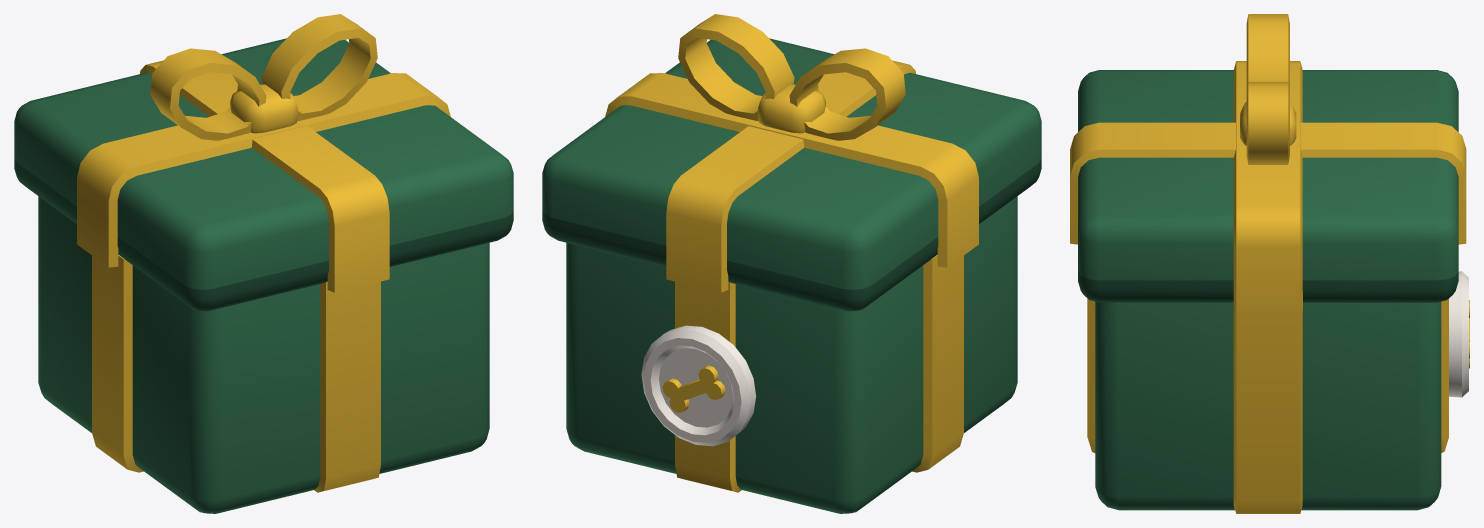
The model's file is boite_accessoires_animaux.fbx.
3 views of the same model, side by side, from view 1: azimuth 30°, elevation 25°; view 2: azimuth 150°, elevation 25°; view 3: azimuth 270°, elevation 25° (orthographic).
Visible parts, largest first — view 1: Corps, Couvercle, RubanCouvercle, Ruban, Noeud; view 2: Corps, Couvercle, RubanCouvercle, Noeud, Ruban, Medaillon, Embleme; view 3: Couvercle, Corps, RubanCouvercle, Ruban, Noeud, Medaillon.
Boxes of the visible parts, x1=… form: Corps: x1=38, y1=196, x2=489, y2=513; Couvercle: x1=14, y1=38, x2=513, y2=311; RubanCouvercle: x1=77, y1=60, x2=450, y2=292; Ruban: x1=92, y1=255, x2=380, y2=492; Noeud: x1=150, y1=14, x2=377, y2=140; Corps: x1=566, y1=196, x2=1017, y2=513; Couvercle: x1=542, y1=38, x2=1041, y2=311; RubanCouvercle: x1=605, y1=60, x2=978, y2=292; Noeud: x1=678, y1=14, x2=905, y2=140; Ruban: x1=675, y1=255, x2=963, y2=492; Medaillon: x1=641, y1=325, x2=756, y2=446; Embleme: x1=662, y1=365, x2=725, y2=413; Couvercle: x1=1078, y1=70, x2=1458, y2=302; Corps: x1=1095, y1=301, x2=1441, y2=510; RubanCouvercle: x1=1070, y1=61, x2=1466, y2=314; Ruban: x1=1087, y1=298, x2=1448, y2=513; Noeud: x1=1240, y1=14, x2=1296, y2=164; Medaillon: x1=1449, y1=271, x2=1468, y2=397.
Size of the model in its own units: 0.922 by 0.9964 by 0.924.
